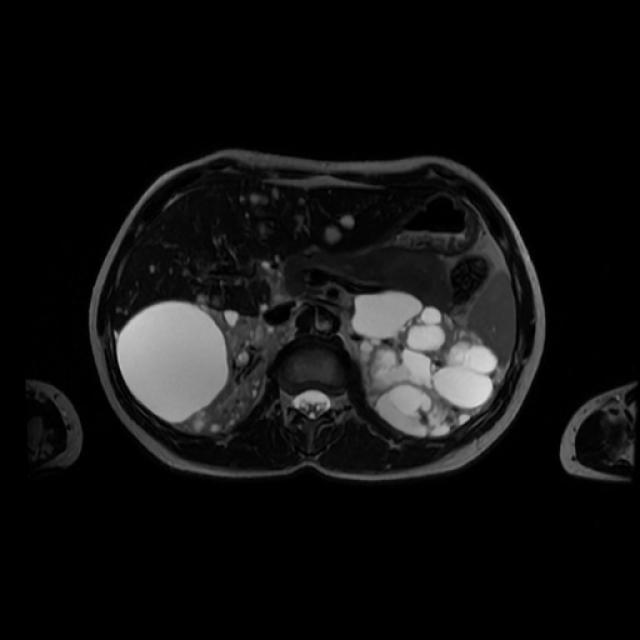sag: (117, 302, 290, 435)
sol: (353, 291, 503, 436)
